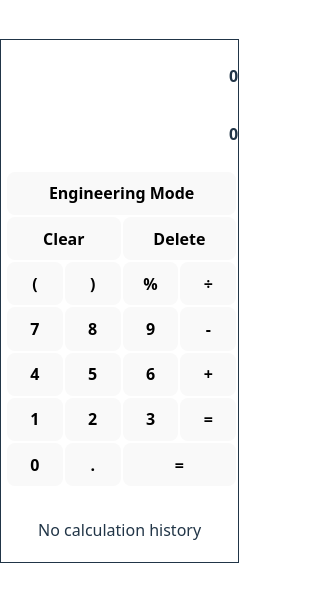
Test: Calculator › toggles engineering mode
This screenshot has width=320, height=603.
Expected: the text "sin" is not shown
Note: Switch to engineering mode
Click the button "Engineering Mode" at (122, 193), box [7,172,236,215]
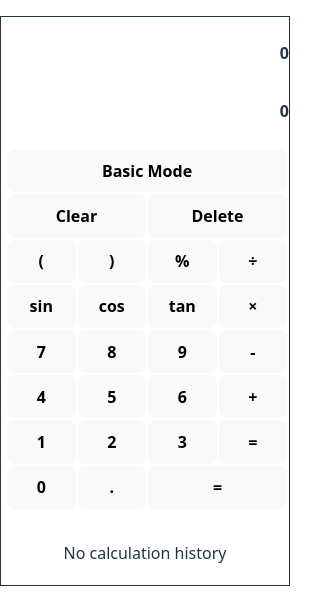
Result: the button "sin" is shown at [7,285,76,328]
Result: the button "cos" is shown at [78,285,146,328]
Result: the button "tan" is shown at [148,285,216,328]
